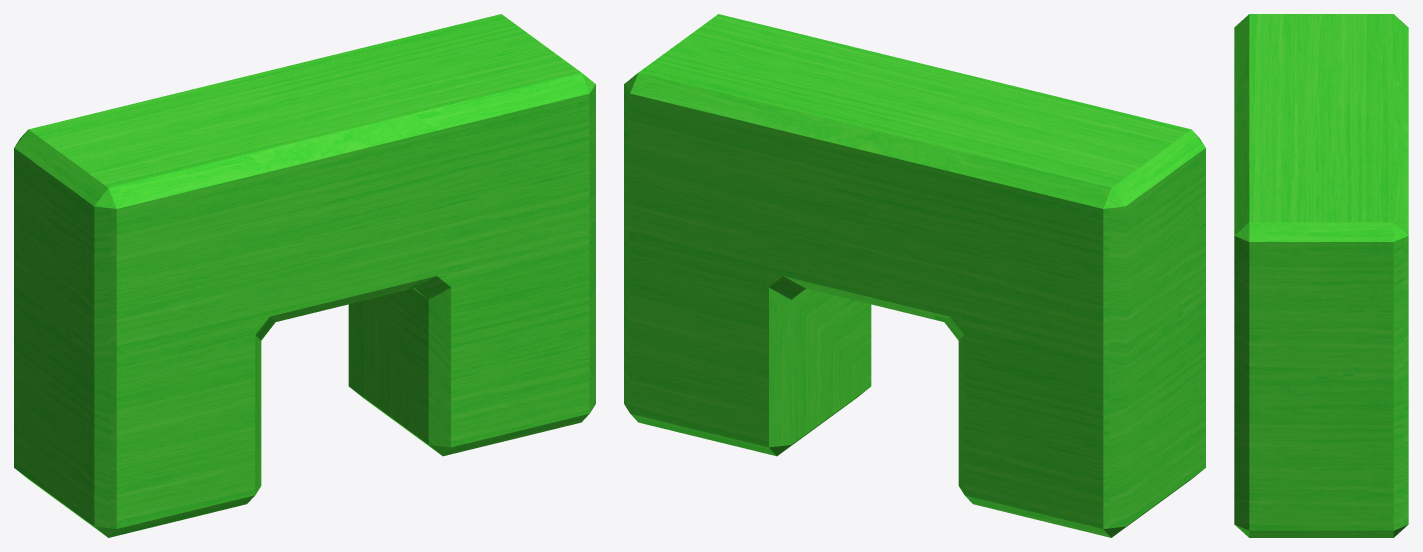
File: BlockyArch_3x2.fbx
3 views of the same model, side by side, from view 1: azimuth 30°, elevation 25°; view 2: azimuth 150°, elevation 25°; view 3: azimuth 270°, elevation 25° (orthographic). The views are drawn at different scales.
Visible parts, largest first — view 1: 3x1_Arc; view 2: 3x1_Arc; view 3: 3x1_Arc.
Part boxes in pixels (x1,y1,x2,y2): 3x1_Arc: (14, 14, 595, 537); 3x1_Arc: (624, 14, 1205, 537); 3x1_Arc: (1234, 14, 1408, 537).
Bounding box in the file's own units: 300 × 200 × 100.
Materials: 1 (1 with a texture image).
